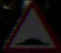Speed Breaker ahead: (3, 8, 49, 48)
